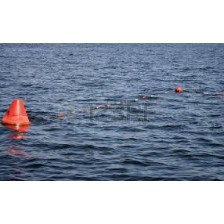buoy: (4, 99, 30, 125), (173, 86, 181, 93)
